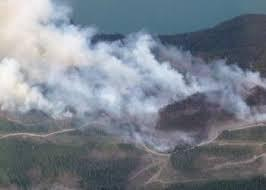yanwu: (1, 0, 266, 145)
